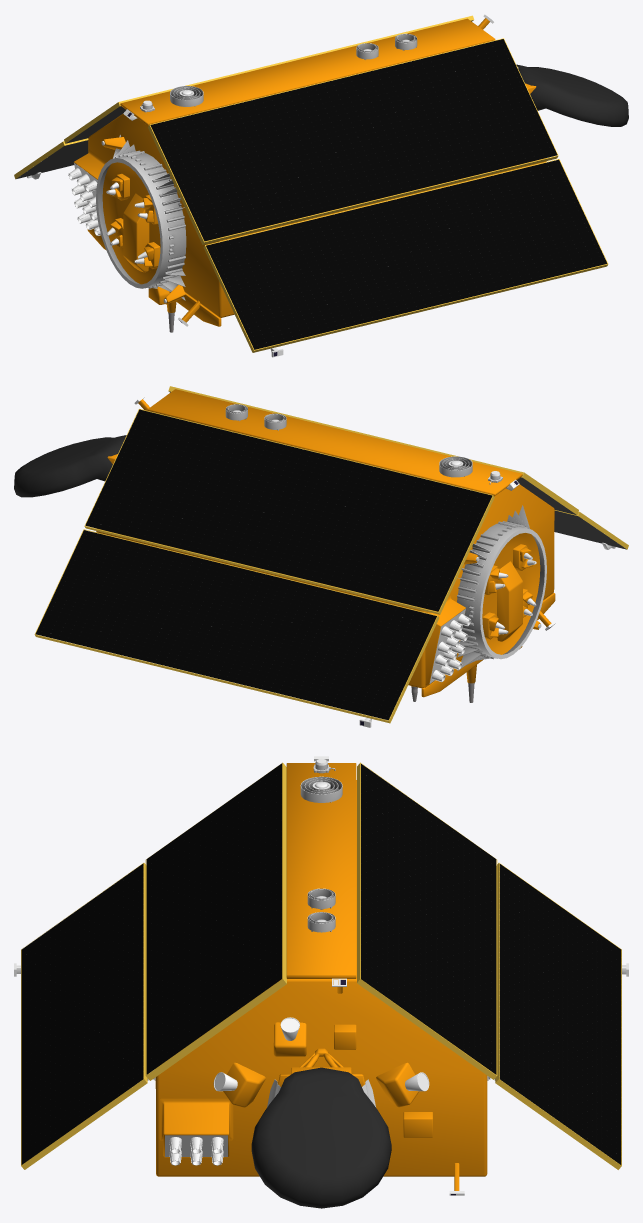
File: Sentinel6.glb
The picture shows the model from 3 angles, top to bottom: view 1: azimuth 30°, elevation 25°; view 2: azimuth 150°, elevation 25°; view 3: azimuth 270°, elevation 25°; orthographic projection. The views are drawn at different scales.
Visible parts, largest first — view 1: array, BUS, MPPS, AMR, GNSS_POD_RO_SPA, GNSS; view 2: array, BUS, MPPS, AMR, GNSS, GNSS_POD_RO_SPA; view 3: array, BUS, AMR, GNSS_POD_RO_SPA, GNSS, starTrackers.
Boxes of the visible parts, <box> form: array: <box>14,15,608,352</box>; BUS: <box>73,18,546,326</box>; MPPS: <box>96,134,186,300</box>; AMR: <box>516,64,628,126</box>; GNSS_POD_RO_SPA: <box>140,33,417,112</box>; GNSS: <box>68,163,100,235</box>; array: <box>34,386,628,723</box>; BUS: <box>96,389,555,697</box>; MPPS: <box>457,505,546,670</box>; AMR: <box>14,435,126,497</box>; GNSS: <box>429,609,471,683</box>; GNSS_POD_RO_SPA: <box>225,404,502,484</box>; array: <box>21,762,621,1169</box>; BUS: <box>155,763,487,1190</box>; AMR: <box>251,1067,391,1208</box>; GNSS_POD_RO_SPA: <box>300,758,342,932</box>; GNSS: <box>165,1135,227,1165</box>; starTrackers: <box>213,1017,429,1091</box>.
Size of the model in its own units: 5.13 by 2.32 by 4.37.
Materials: 17 (4 with a texture image).
